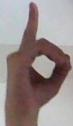D1: (2, 2, 73, 110)
